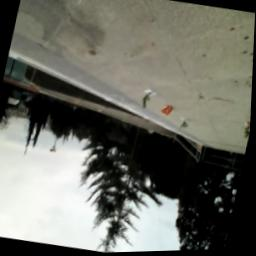herb: (141, 94, 154, 112), (181, 121, 192, 133), (244, 126, 252, 142)
wild: (162, 106, 176, 120)
